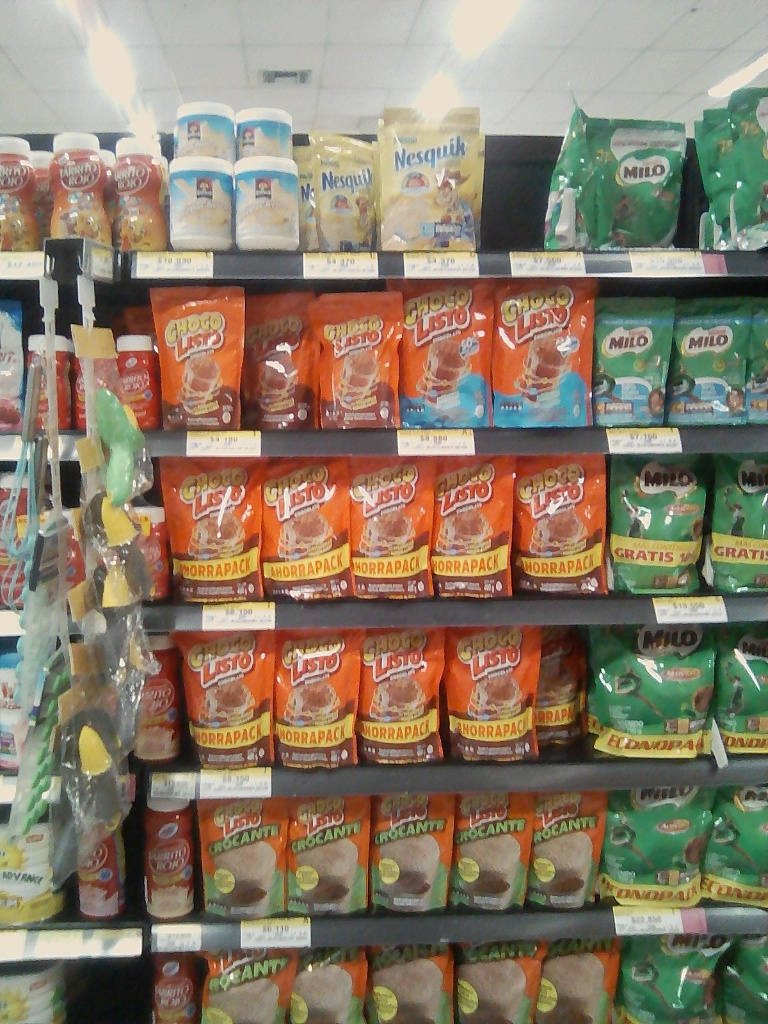COL0170102DYP25000: (532, 789, 607, 910)
COL0170102DYP50000: (204, 954, 296, 1017)
COL0170103DYP20000: (310, 291, 403, 429)
COL0170103DYP40000: (517, 455, 610, 598)
COL0170203DYP50000: (587, 623, 713, 759)
COL0170205DYP20000: (595, 296, 679, 429)
COL0170306DYP20000: (381, 106, 485, 255)
